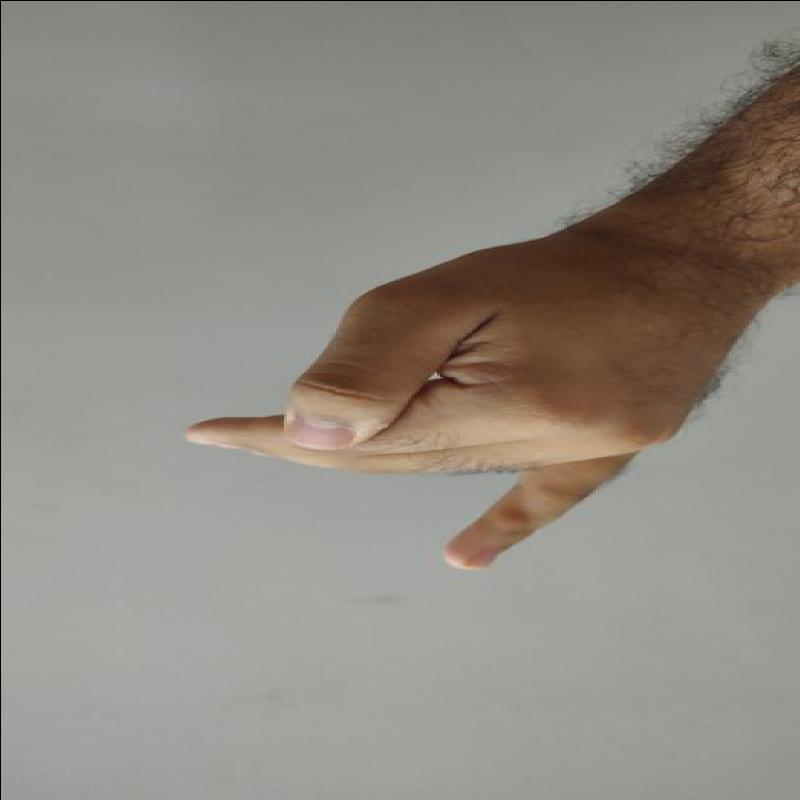Kartharee Mukham: (166, 225, 727, 585)
